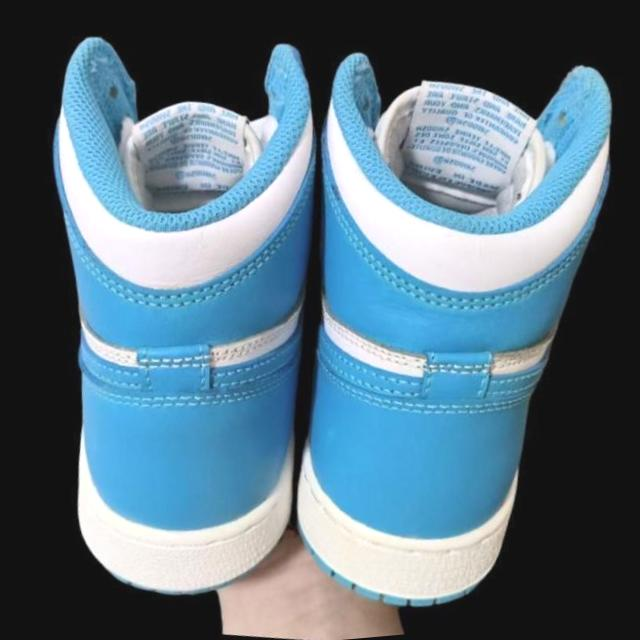nike_original_jordan: (236, 20, 640, 640), (0, 3, 378, 630)
